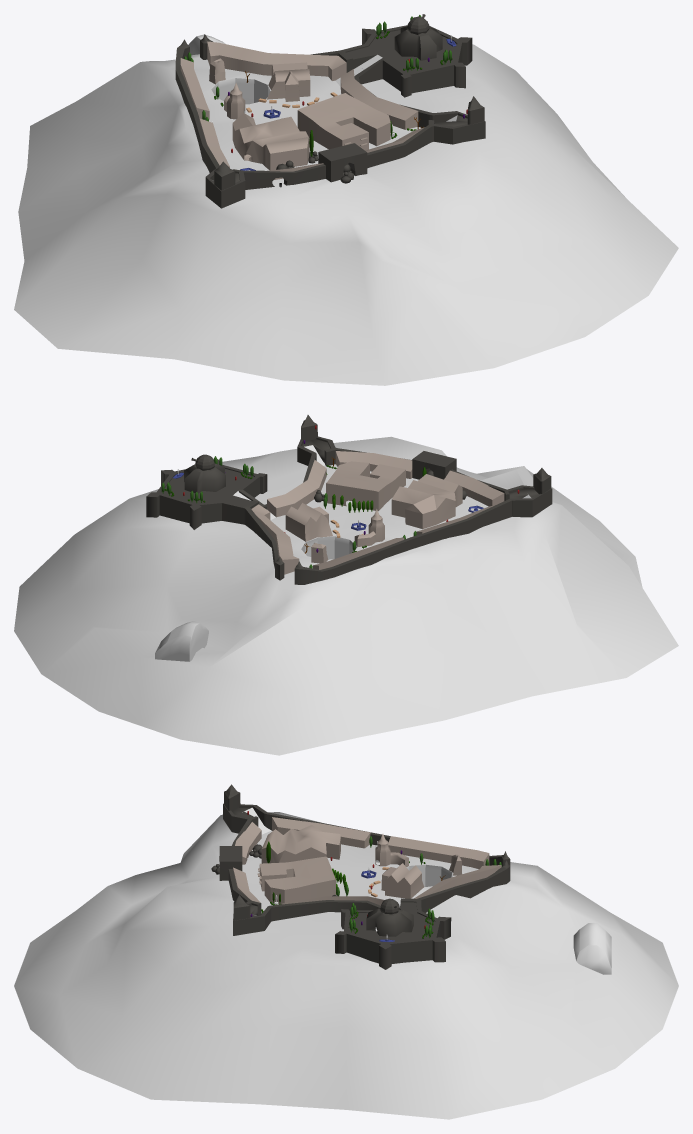
File: City_Pls_2.fbx
3 views of the same model, one above another, from view 1: azimuth 30°, elevation 25°; view 2: azimuth 150°, elevation 25°; view 3: azimuth 270°, elevation 25° (orthographic). The views are drawn at different scales.
Parts seen in each view (by area): view 1: polySurface260, polySurface19, polySurface25, polySurface123, polySurface103, polySurface16, polySurface23, polySurface104, polySurface258, polySurface106; view 2: polySurface260, polySurface19, polySurface25, polySurface123, polySurface24, polySurface23, polySurface16, polySurface104, polySurface258, polySurface103, polySurface22, polySurface46 (+1 smaller); view 3: polySurface260, polySurface19, polySurface25, polySurface123, polySurface106, polySurface24, polySurface16, polySurface107, polySurface104, polySurface258, polySurface103, polySurface46.
Part boxes in pixels (x1,y1,x2,y2): polySurface260: (14,44,678,385); polySurface19: (175,21,485,208); polySurface25: (297,93,390,150); polySurface123: (232,113,309,170); polySurface103: (207,41,346,80); polySurface16: (346,30,456,72); polySurface23: (340,69,418,129); polySurface104: (267,62,310,101); polySurface258: (394,26,442,60); polySurface106: (180,58,209,119); polySurface260: (14,436,678,755); polySurface19: (146,436,552,584); polySurface25: (326,461,405,511); polySurface123: (391,474,462,529); polySurface24: (155,621,208,661); polySurface23: (267,460,326,517); polySurface16: (161,469,254,505); polySurface104: (285,503,332,541); polySurface258: (184,463,225,493); polySurface103: (251,504,299,574); polySurface22: (335,451,412,478); polySurface46: (444,470,504,506); polySurface260: (14,812,678,1119); polySurface19: (219,803,510,969); polySurface25: (259,856,335,904); polySurface123: (261,825,340,863); polySurface106: (388,836,489,869); polySurface24: (573,923,611,974); polySurface16: (348,902,435,941); polySurface107: (272,817,370,848); polySurface104: (381,863,424,898); polySurface258: (366,908,413,936); polySurface103: (414,865,501,898); polySurface46: (235,822,261,864).
Size of the model in its own units: 207 by 52.38 by 217.
